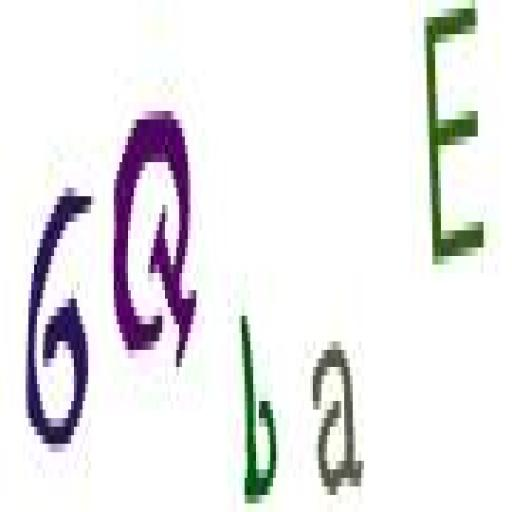6: (23, 171, 94, 460)
E: (421, 2, 488, 283)
Q: (105, 97, 213, 380)
a: (307, 332, 366, 508)
b: (235, 305, 281, 512)
